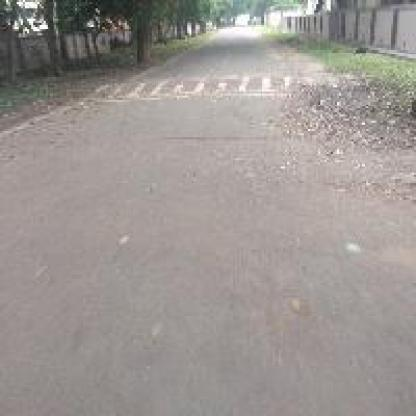Speed Bump: (92, 73, 296, 100)
